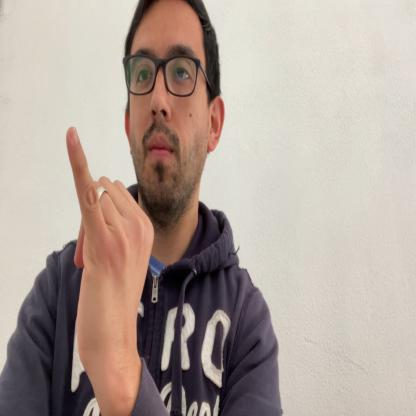I: (64, 126, 154, 357)
